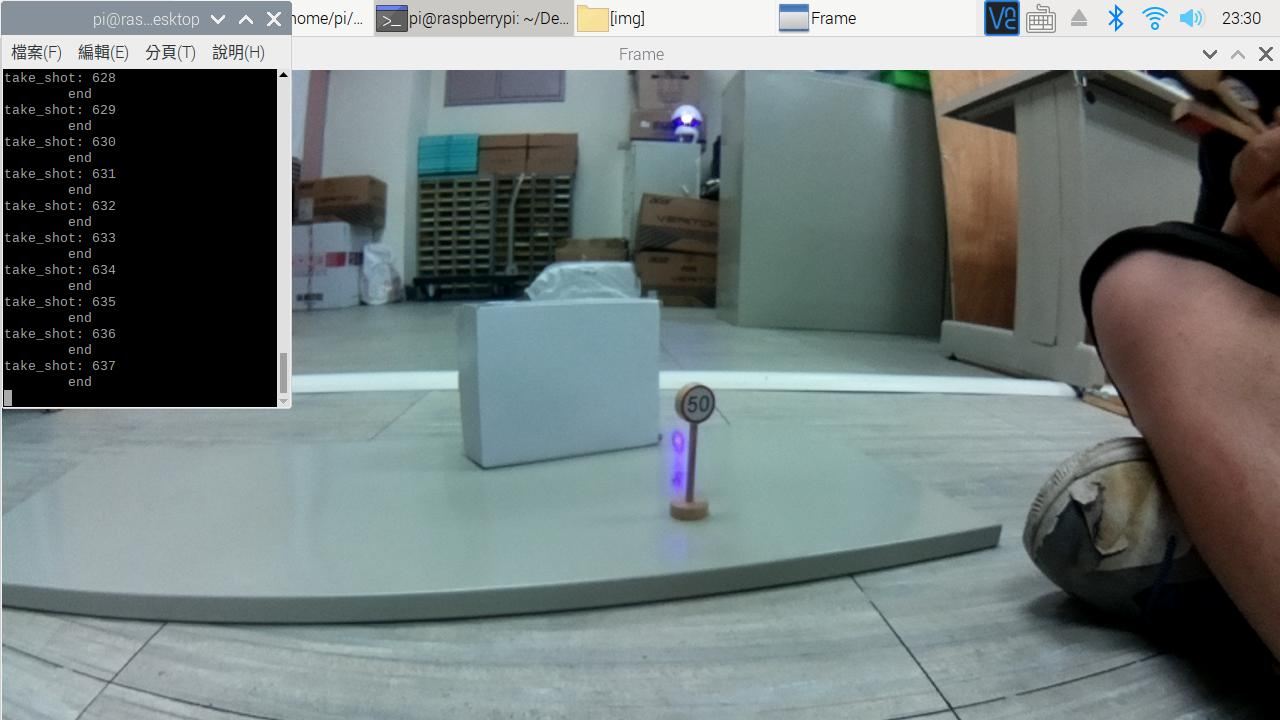Speed50: (672, 385, 722, 435)
